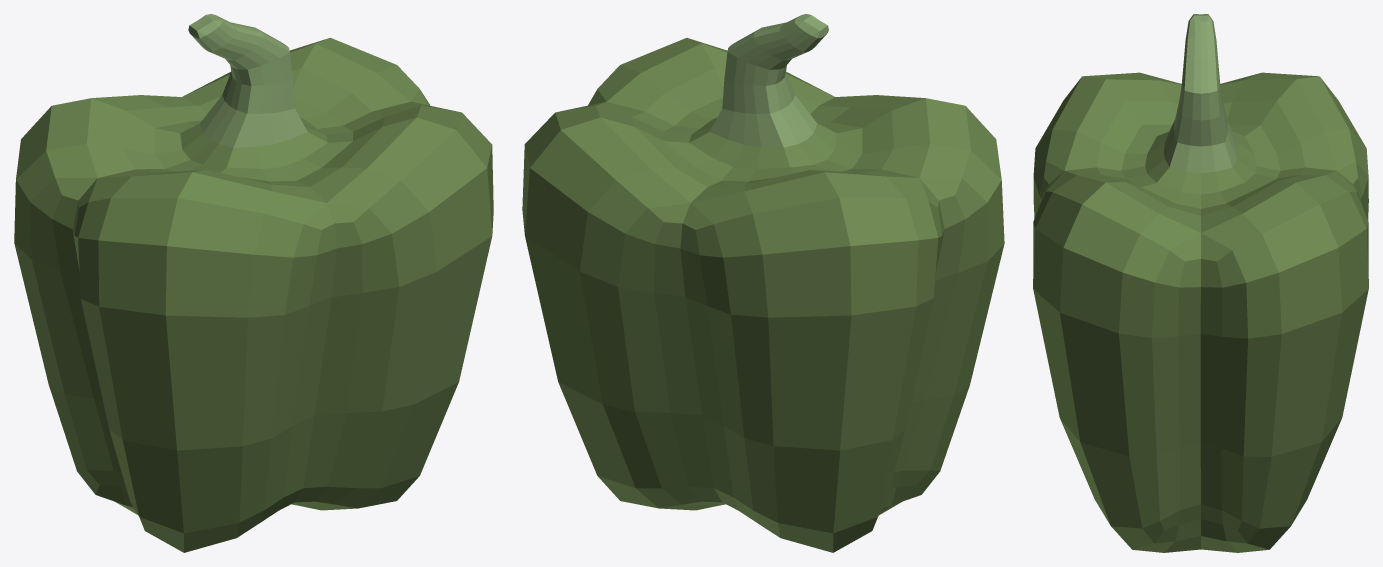
The model's file is Pepper_Green.glb.
3 renders of one model, left to right at view 1: azimuth 30°, elevation 25°; view 2: azimuth 150°, elevation 25°; view 3: azimuth 270°, elevation 25°, orthographic. The views are drawn at different scales.
Parts seen in each view (by area): view 1: Pepper_Green; view 2: Pepper_Green; view 3: Pepper_Green.
Part boxes in pixels (left/top/right/bottom): Pepper_Green: left=14, top=14, right=493, bottom=552; Pepper_Green: left=522, top=14, right=1004, bottom=552; Pepper_Green: left=1033, top=14, right=1368, bottom=552.
Bounding box in the file's own units: 0.9234 × 1.12 × 0.7118.
